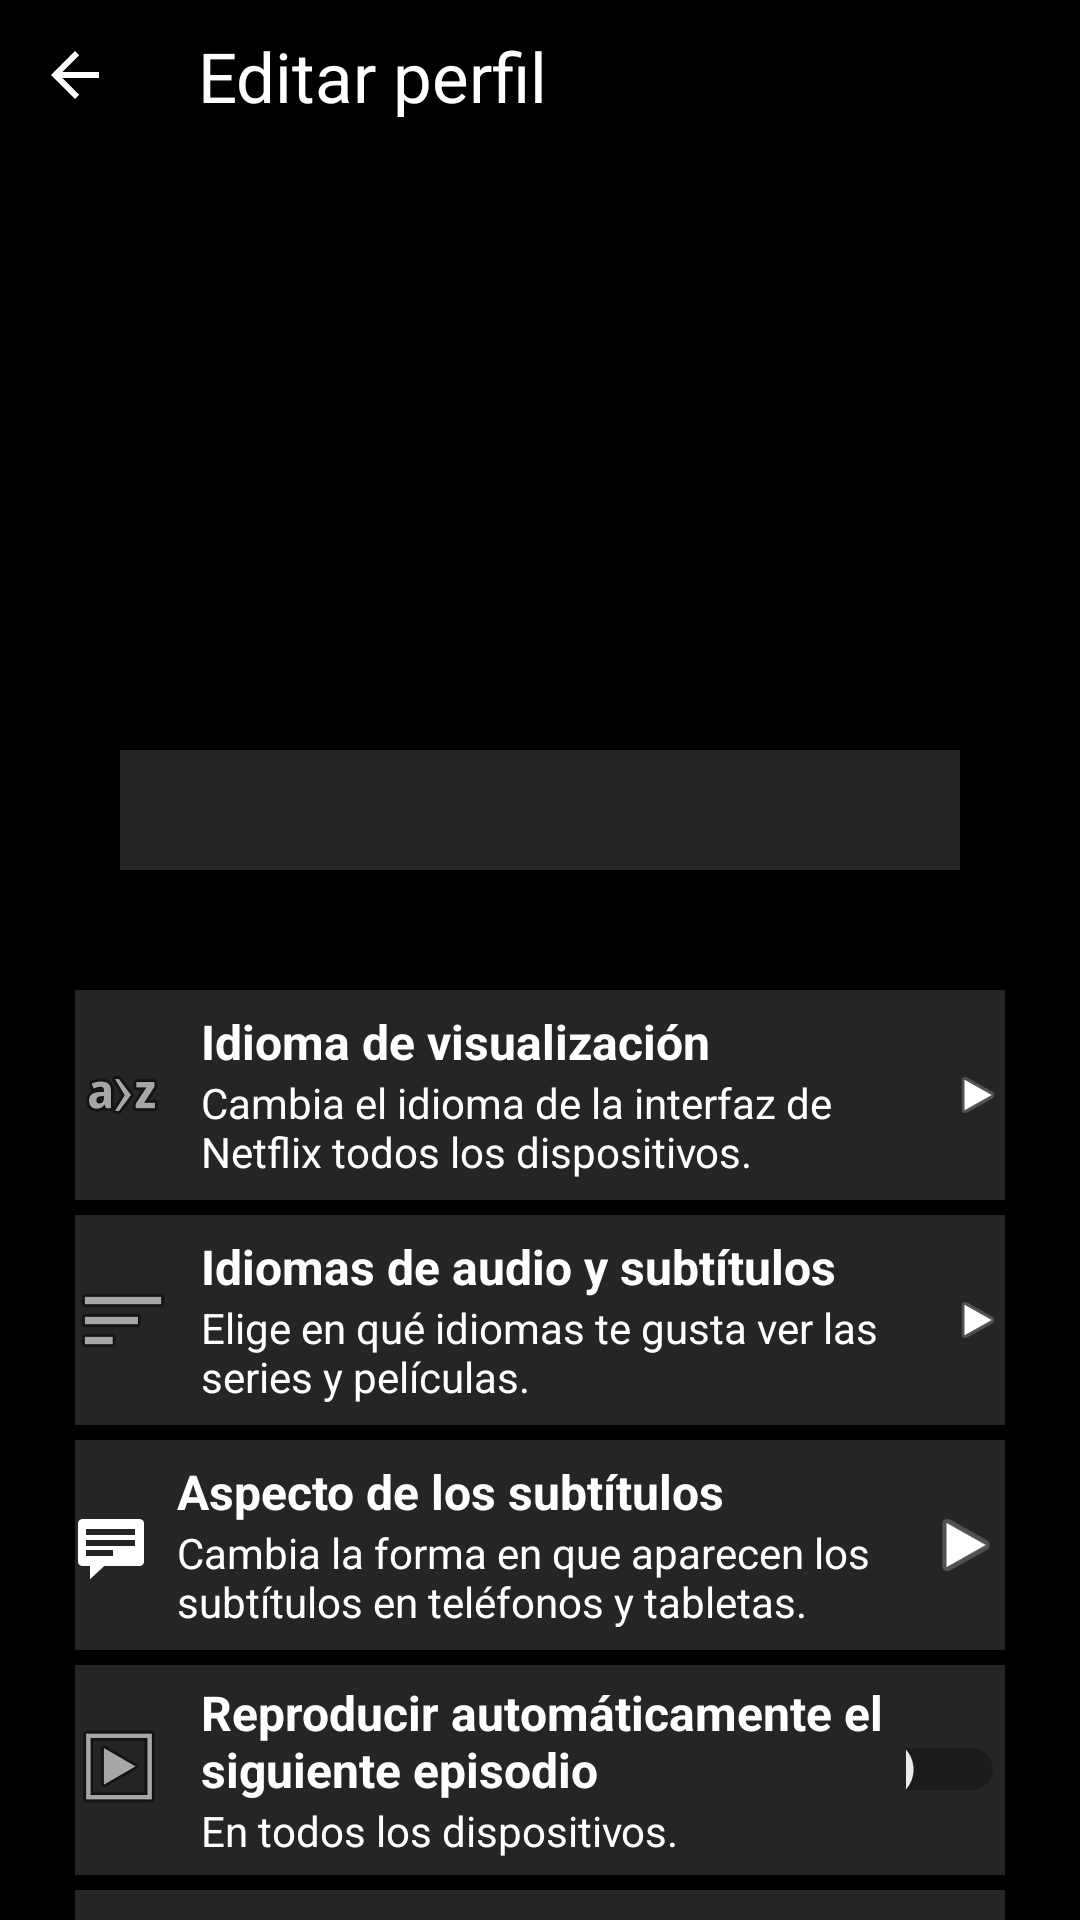

Icons on this 1080 x 1920 Android screen, each with its box as {"x1": x1, "y1": y1, "x2": x2, "y2": y2}:
chat: {"x1": 78, "y1": 1519, "x2": 144, "y2": 1579}
play: {"x1": 962, "y1": 1077, "x2": 994, "y2": 1113}, {"x1": 962, "y1": 1302, "x2": 994, "y2": 1338}, {"x1": 942, "y1": 1519, "x2": 990, "y2": 1571}
slideshow: {"x1": 86, "y1": 1733, "x2": 152, "y2": 1800}
sort alphabetically: {"x1": 89, "y1": 1079, "x2": 155, "y2": 1111}
sort by size: {"x1": 85, "y1": 1297, "x2": 161, "y2": 1344}
